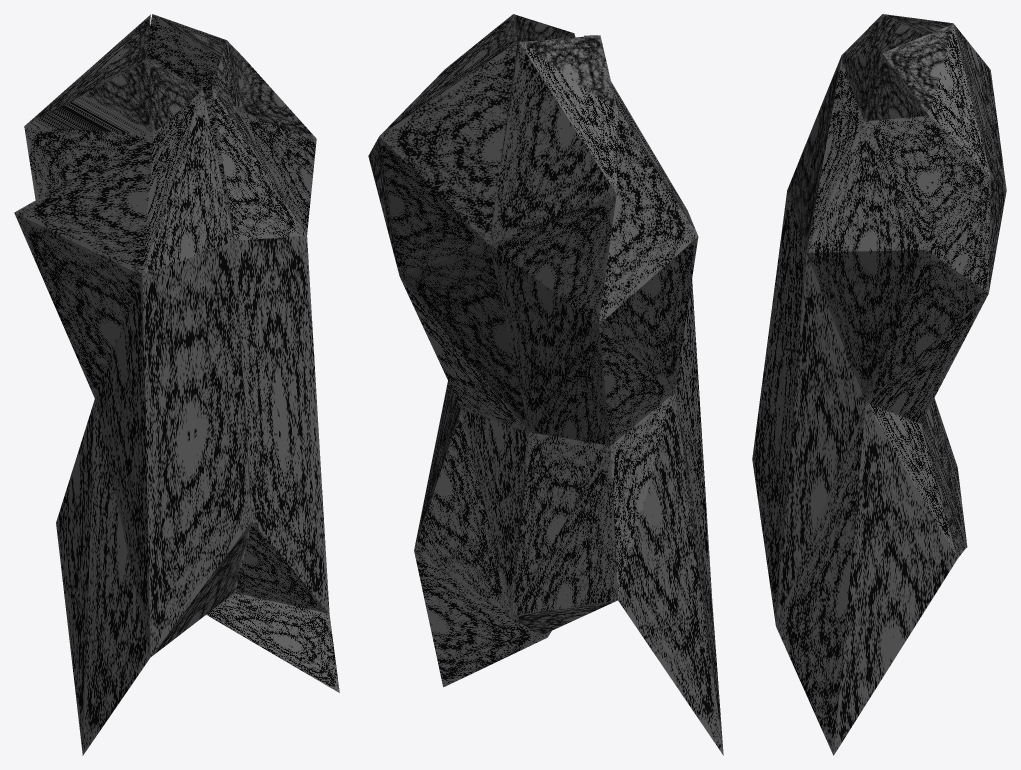
The model's file is CitizenOneTorso.fbx.
3 views of the same model, side by side, from view 1: azimuth 30°, elevation 25°; view 2: azimuth 150°, elevation 25°; view 3: azimuth 270°, elevation 25° (orthographic). The views are drawn at different scales.
Parts seen in each view (by area): view 1: CitizenOneTorso; view 2: CitizenOneTorso; view 3: CitizenOneTorso.
Boxes of the visible parts, left/top/right/bottom form: CitizenOneTorso: left=14, top=14, right=339, bottom=755; CitizenOneTorso: left=368, top=14, right=723, bottom=755; CitizenOneTorso: left=752, top=14, right=1006, bottom=755.
Size of the model in its own units: 381 by 801 by 276.
